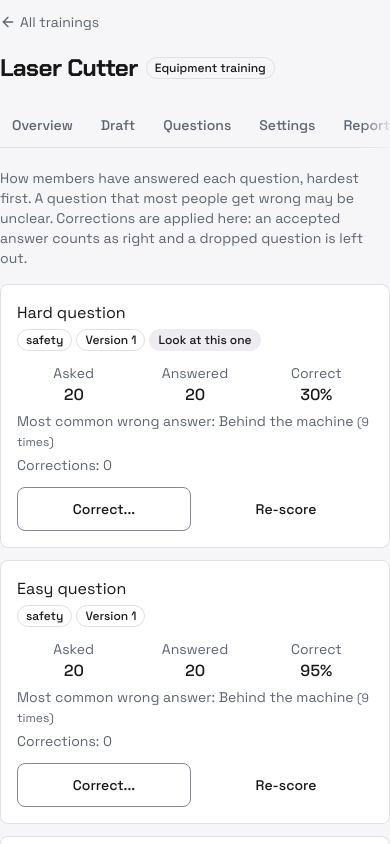
Test: QuestionReport on a phone › opens the correction dialog from a card
Expected: the heading "Laser Cutter" is shown, 0,52 -> 138,84
Click the button with aria-label "correct:". click: click(104, 509)
box: 17,487 -> 191,531
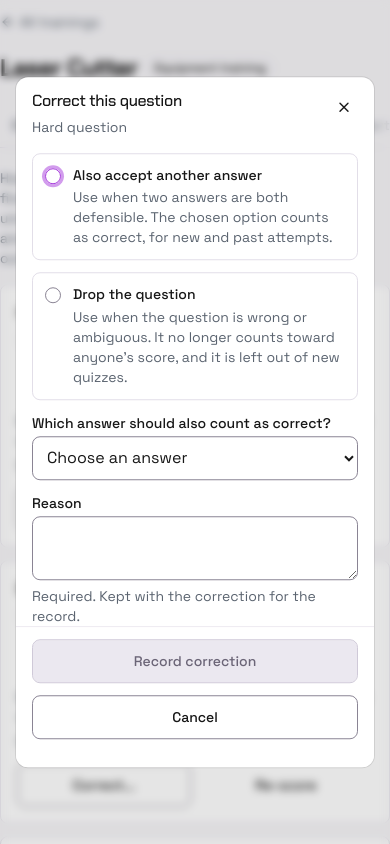
Now the dialog "Correct this question" is shown
